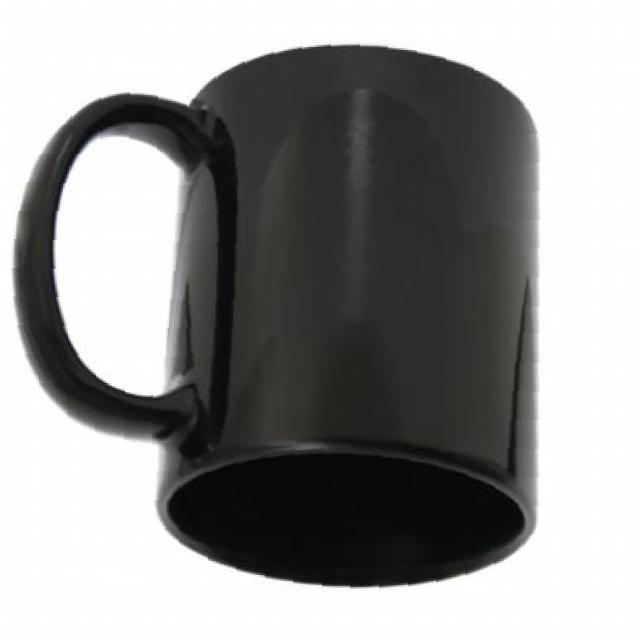cup: (0, 24, 573, 607)
